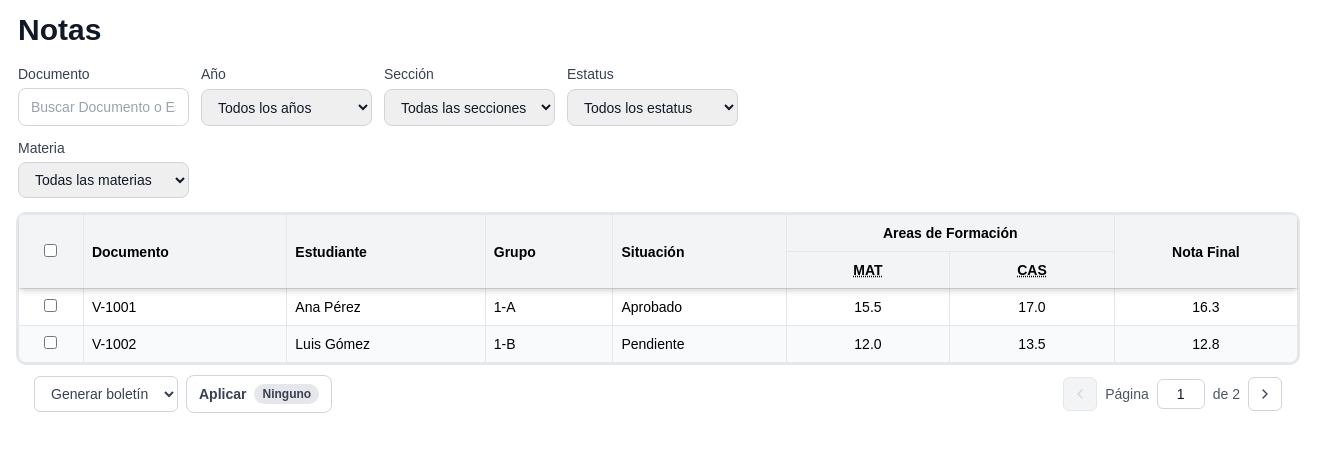
Test: Grades page › closes subject detail view
The width and height of the screenshot is (1317, 467).
Click the button "MAT" at (868, 270), box [853,260,883,280]
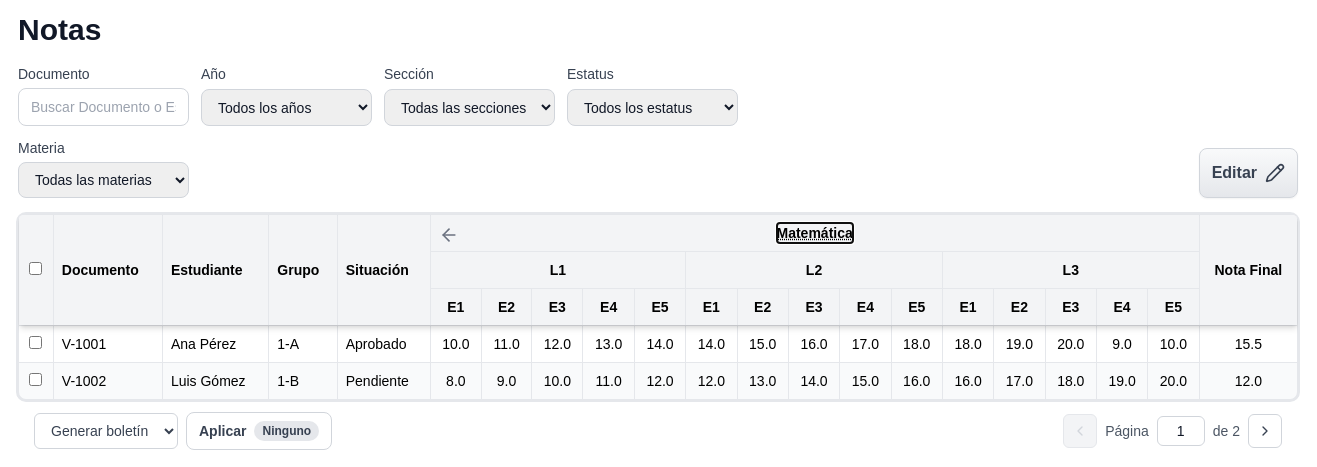
Expected: the button "Matemática" is shown, [776,223,853,243]
Click the button named "Volver" at (449, 235), box [439,223,459,247]
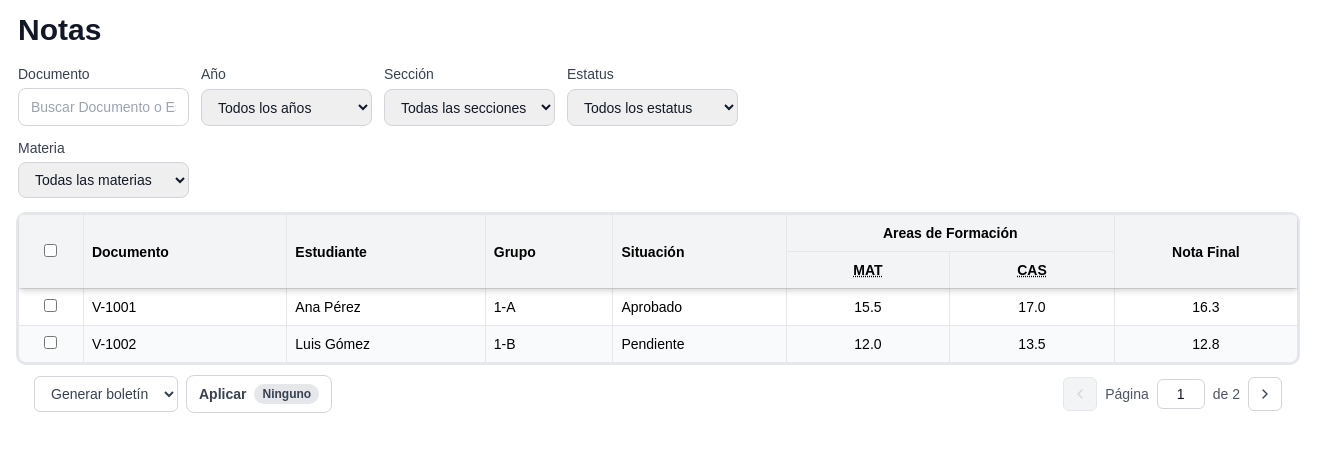
Expected: the button "Matemática" is gone
Expected: the button "Editar" is gone
